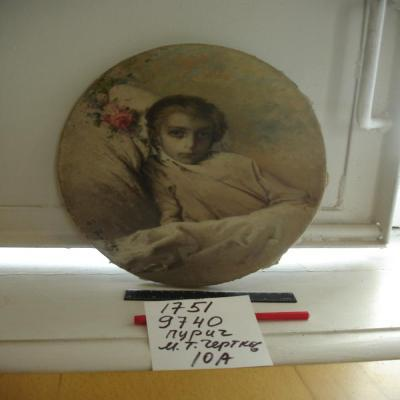painting: (55, 43, 329, 291)
